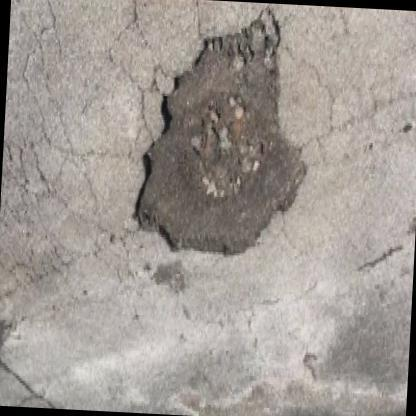pothole: (136, 10, 309, 257)
